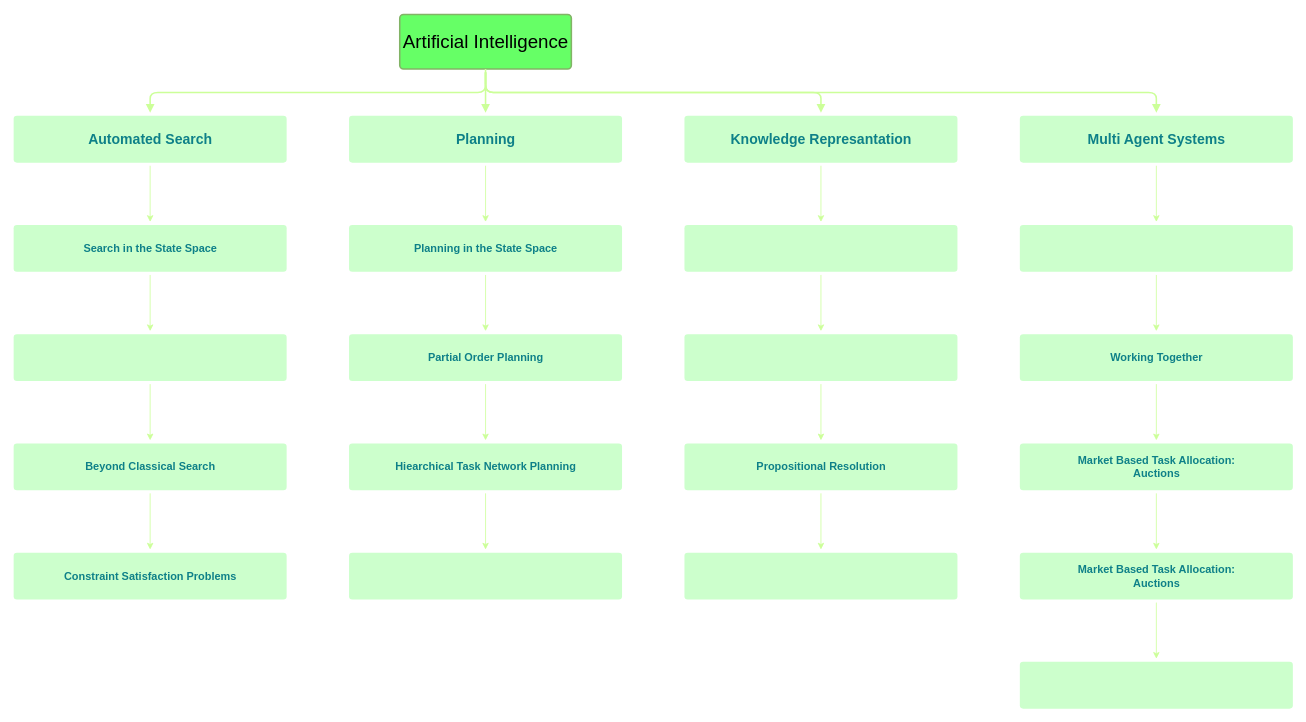
Image size: 1306x722. Some labels were removed from this diagram. The centre of each missing label's shape, as x and y in pixels:
Games: the point at 1155,248
Heuristic Search: the point at 149,357
Logic Based Agents: the point at 820,248
Logic Programming and PROLOG: the point at 820,575
Non Classical Planning: the point at 485,575
Propositional Logic: the point at 820,357
Working together: Distributed Constraint Optimization: the point at 1155,684
